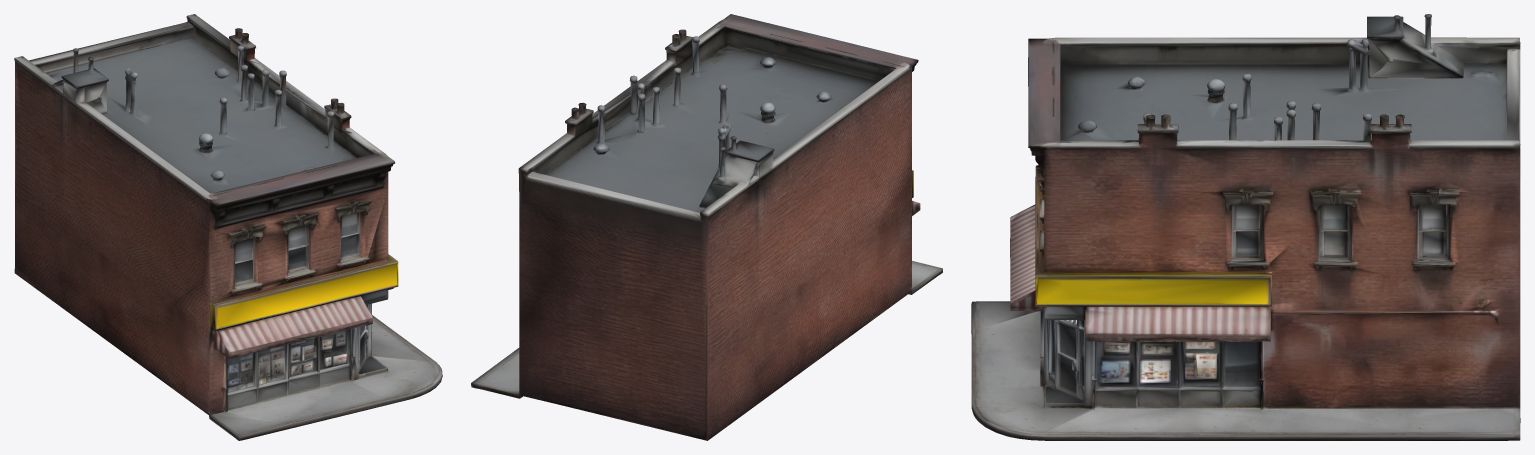
The model's file is corner_deli.glb.
The picture shows the model from 3 angles, left to right: view 1: azimuth 30°, elevation 25°; view 2: azimuth 150°, elevation 25°; view 3: azimuth 270°, elevation 25°; orthographic projection. The views are drawn at different scales.
Parts seen in each view (by area): view 1: node_0; view 2: node_0; view 3: node_0.
Boxes of the visible parts, box(x1,y1,x2,y2) form: node_0: box(14, 14, 442, 440); node_0: box(471, 14, 942, 440); node_0: box(971, 14, 1520, 440).
Bounding box in the file's own units: 0.535 × 0.5646 × 0.9177.
1 material, 1 textured.
